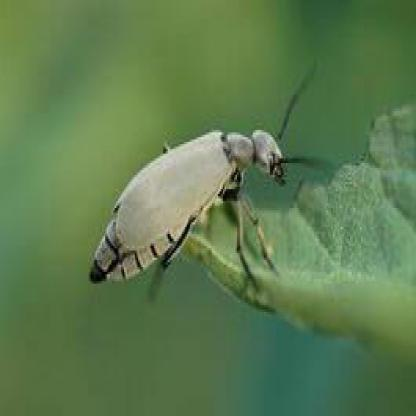blister beetle: (87, 128, 285, 300)
